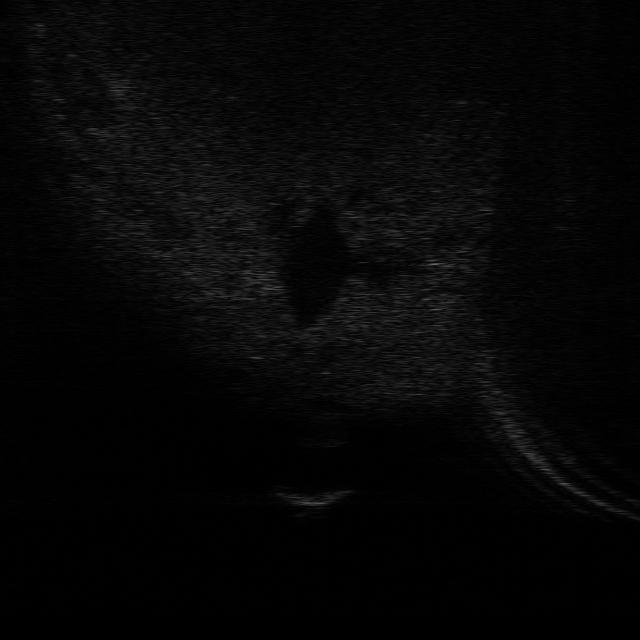cube: (271, 485, 351, 518)
